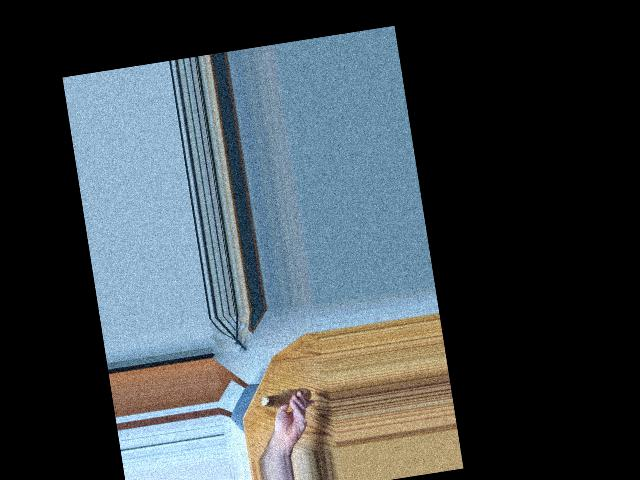sweet_potato: (264, 382, 308, 407)
